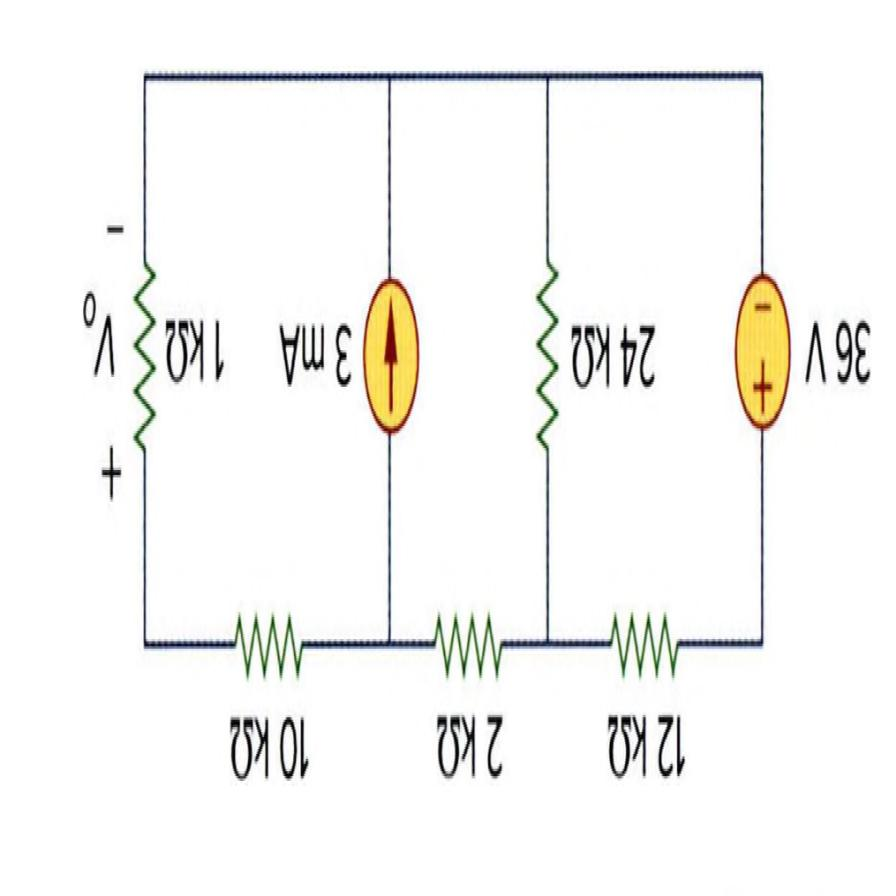V3: (734, 278, 790, 432)
